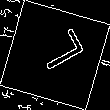L_SW: (26, 30, 84, 80)
